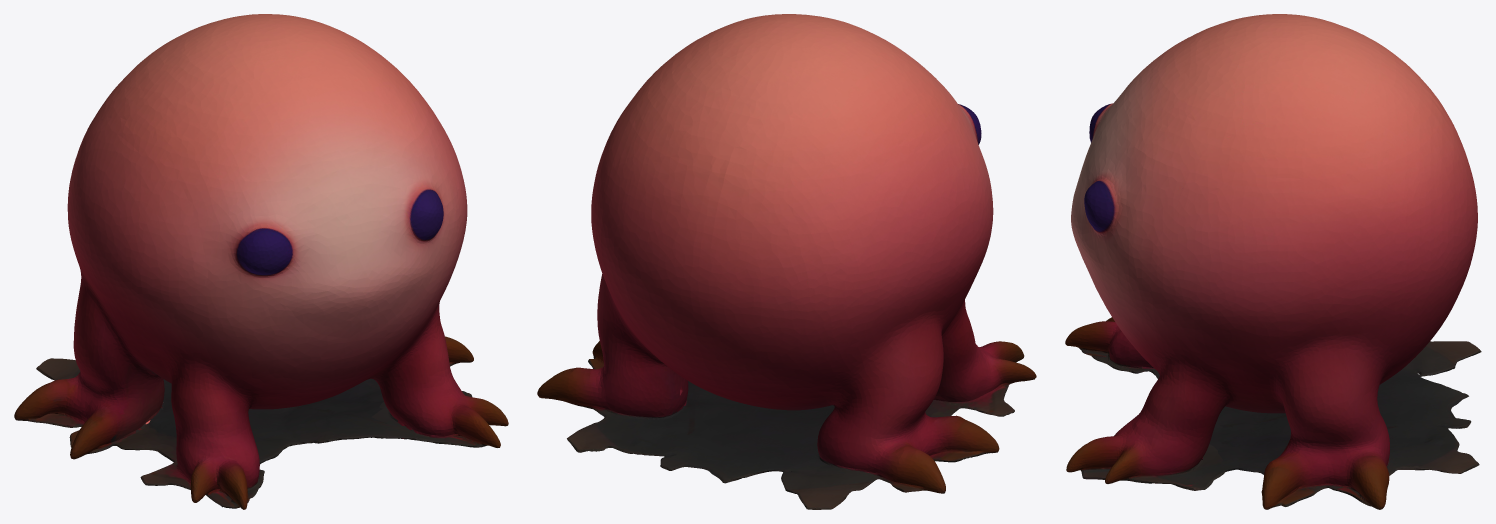
Rendered from blob_slimeenemy.glb.
3 renders of one model, left to right at view 1: azimuth 30°, elevation 25°; view 2: azimuth 150°, elevation 25°; view 3: azimuth 270°, elevation 25°, orthographic.
Parts seen in each view (by area): view 1: textured_mesh.obj; view 2: textured_mesh.obj; view 3: textured_mesh.obj.
Part boxes in pixels (<box>): textured_mesh.obj: <box>14,14,508,509</box>; textured_mesh.obj: <box>537,14,1036,509</box>; textured_mesh.obj: <box>1065,14,1481,509</box>.
Bounding box in the file's own units: 1.99 × 1.78 × 1.75.
1 material, 1 textured.
